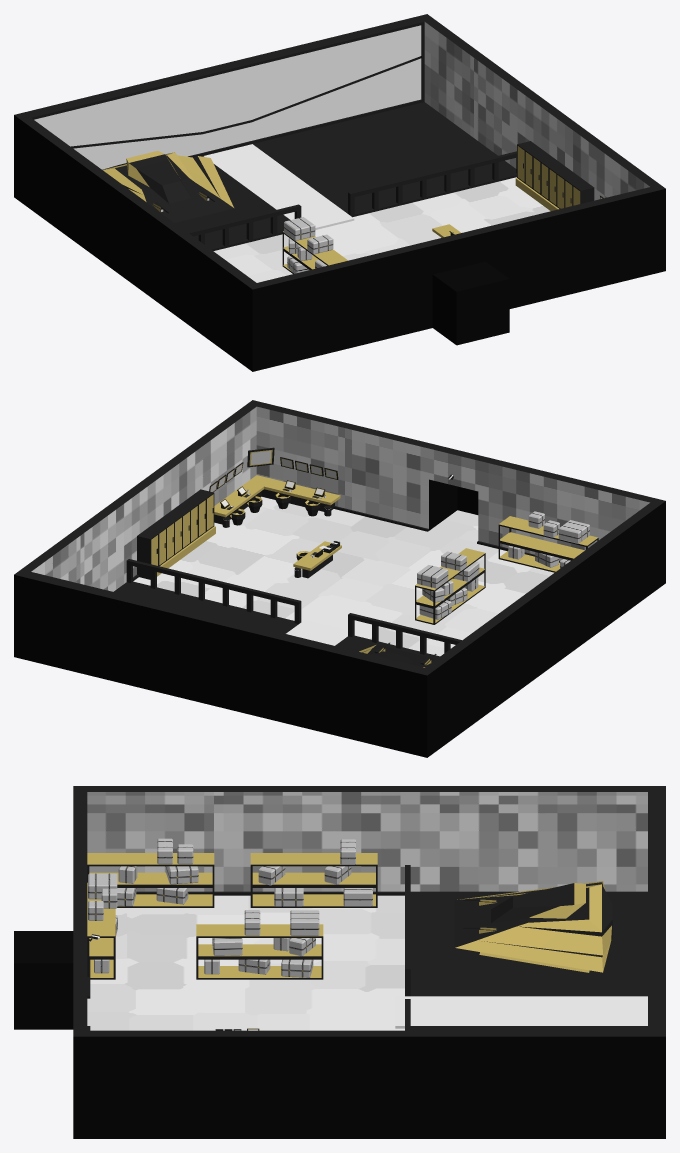
Rendered from Gateway_1x1x1.fbx.
The picture shows the model from 3 angles, top to bottom: view 1: azimuth 30°, elevation 25°; view 2: azimuth 150°, elevation 25°; view 3: azimuth 270°, elevation 25°; orthographic projection. The views are drawn at different scales.
Parts seen in each view (by area): view 1: Gateway_1x1x1; view 2: Gateway_1x1x1; view 3: Gateway_1x1x1.
Part boxes in pixels (left/top/right/bottom): Gateway_1x1x1: left=14, top=14, right=665, bottom=371; Gateway_1x1x1: left=14, top=400, right=665, bottom=757; Gateway_1x1x1: left=14, top=786, right=665, bottom=1138.
Size of the model in its own units: 42 by 46.2 by 8.
